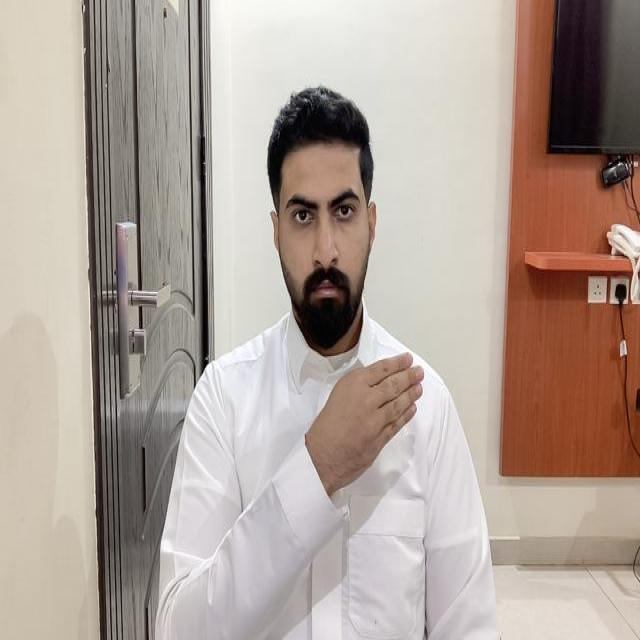result: (304, 350, 424, 494)
